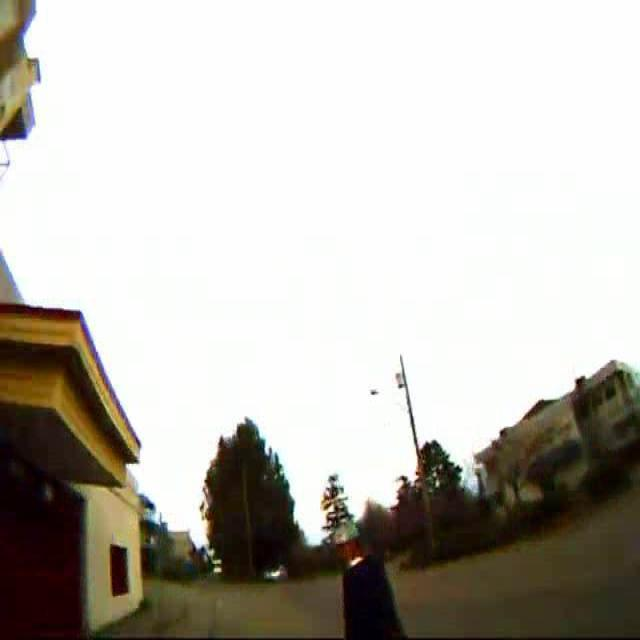other: (2, 311, 193, 519)
